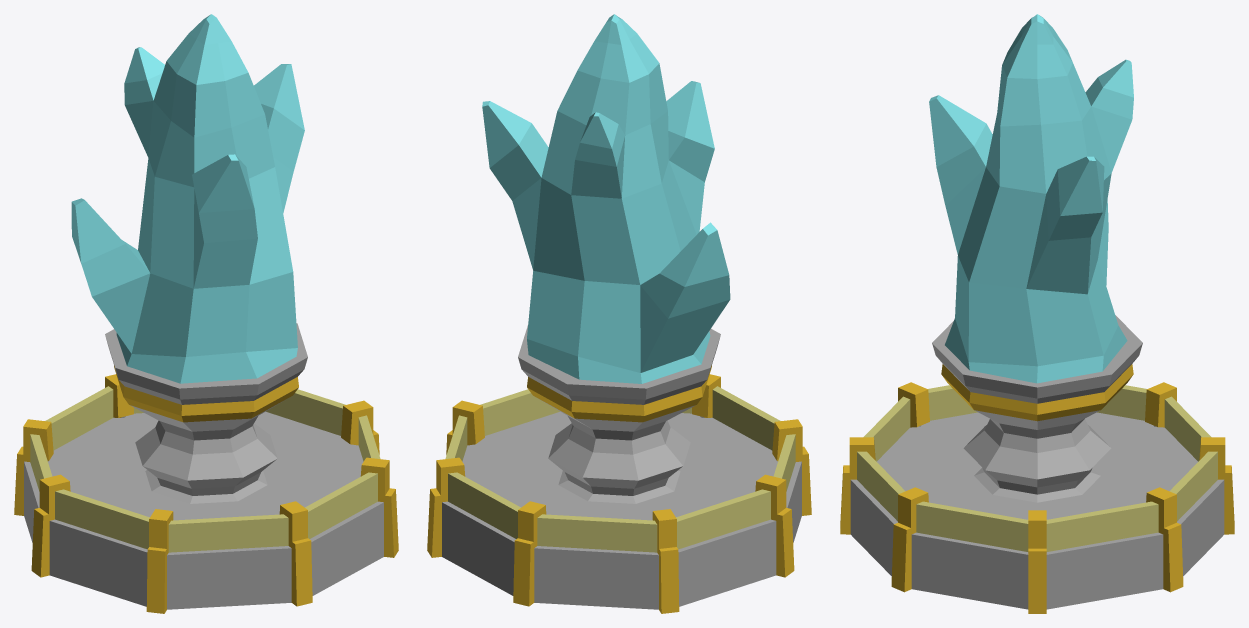
File: necromancer.glb
The picture shows the model from 3 angles, left to right: view 1: azimuth 30°, elevation 25°; view 2: azimuth 150°, elevation 25°; view 3: azimuth 270°, elevation 25°; orthographic projection.
Visible parts, largest first — view 1: Cylinder, Cube; view 2: Cylinder, Cube; view 3: Cylinder, Cube.
Part boxes in pixels (<box>): Cylinder: <box>14,323,398,613</box>; Cube: <box>71,14,304,383</box>; Cylinder: <box>427,324,811,613</box>; Cube: <box>482,14,730,383</box>; Cylinder: <box>840,315,1234,613</box>; Cube: <box>929,14,1133,383</box>.
Bounding box in the file's own units: 2.07 × 3 × 2.07.
